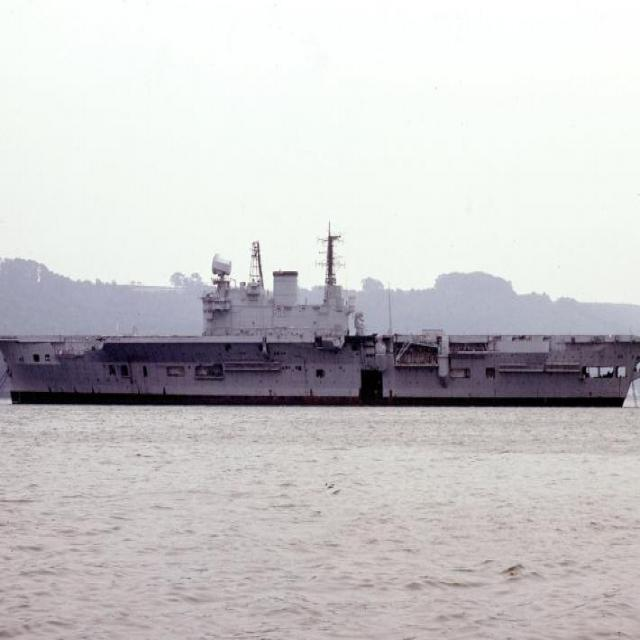Portanaves: (1, 215, 640, 411)
